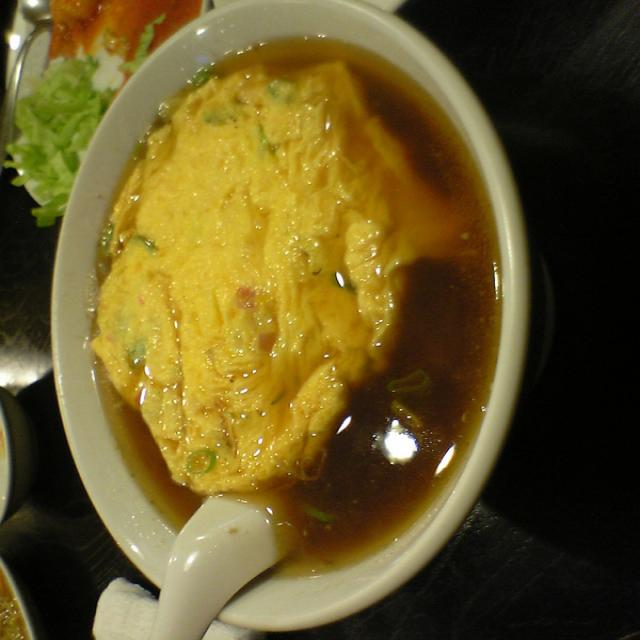面条主食: (50, 75, 640, 376)
